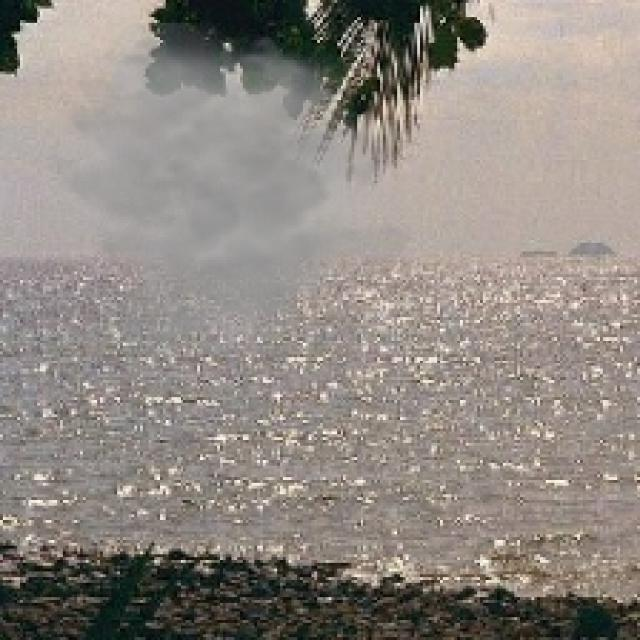smoke: (40, 23, 414, 380)
